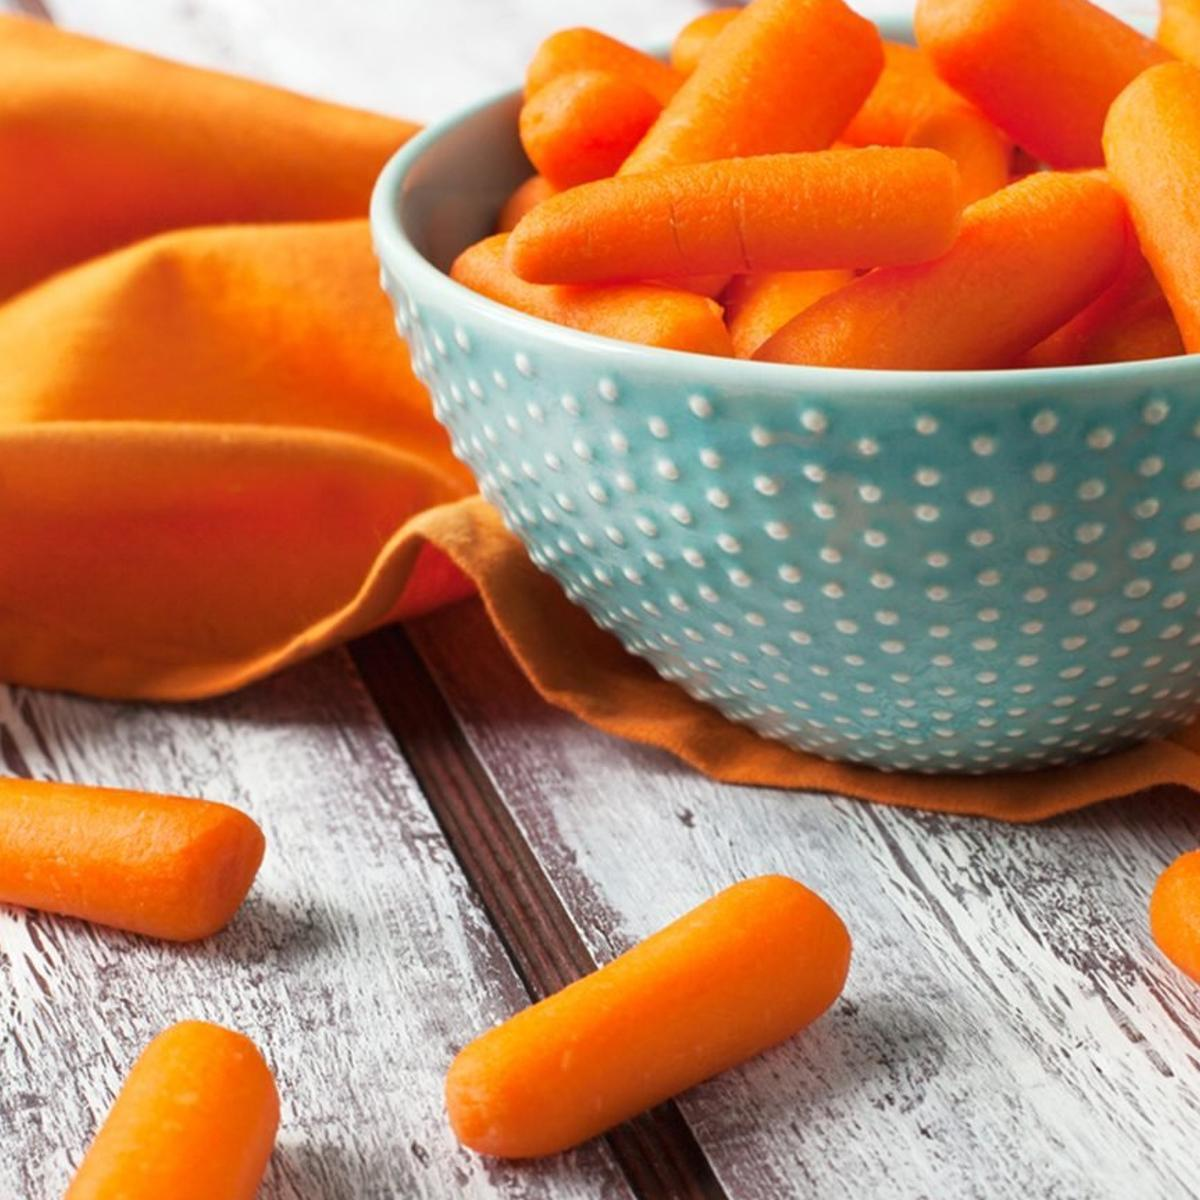carrot: (531, 64, 1200, 342), (697, 0, 1198, 354), (447, 876, 849, 1164), (0, 758, 280, 946), (519, 174, 956, 278), (63, 1018, 292, 1200), (1143, 846, 1200, 1002)
